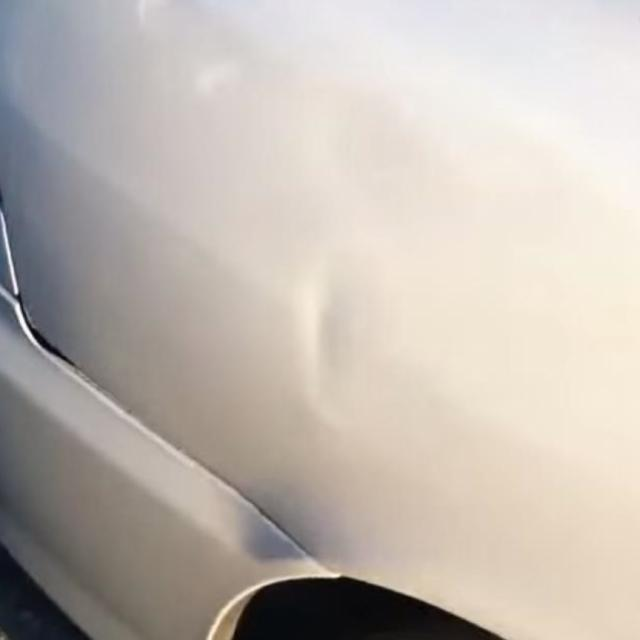dents: (275, 254, 421, 476)
